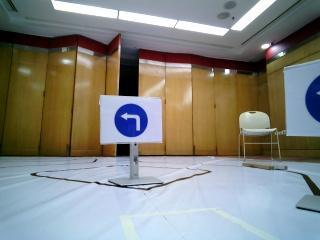left: (103, 99, 163, 141)
